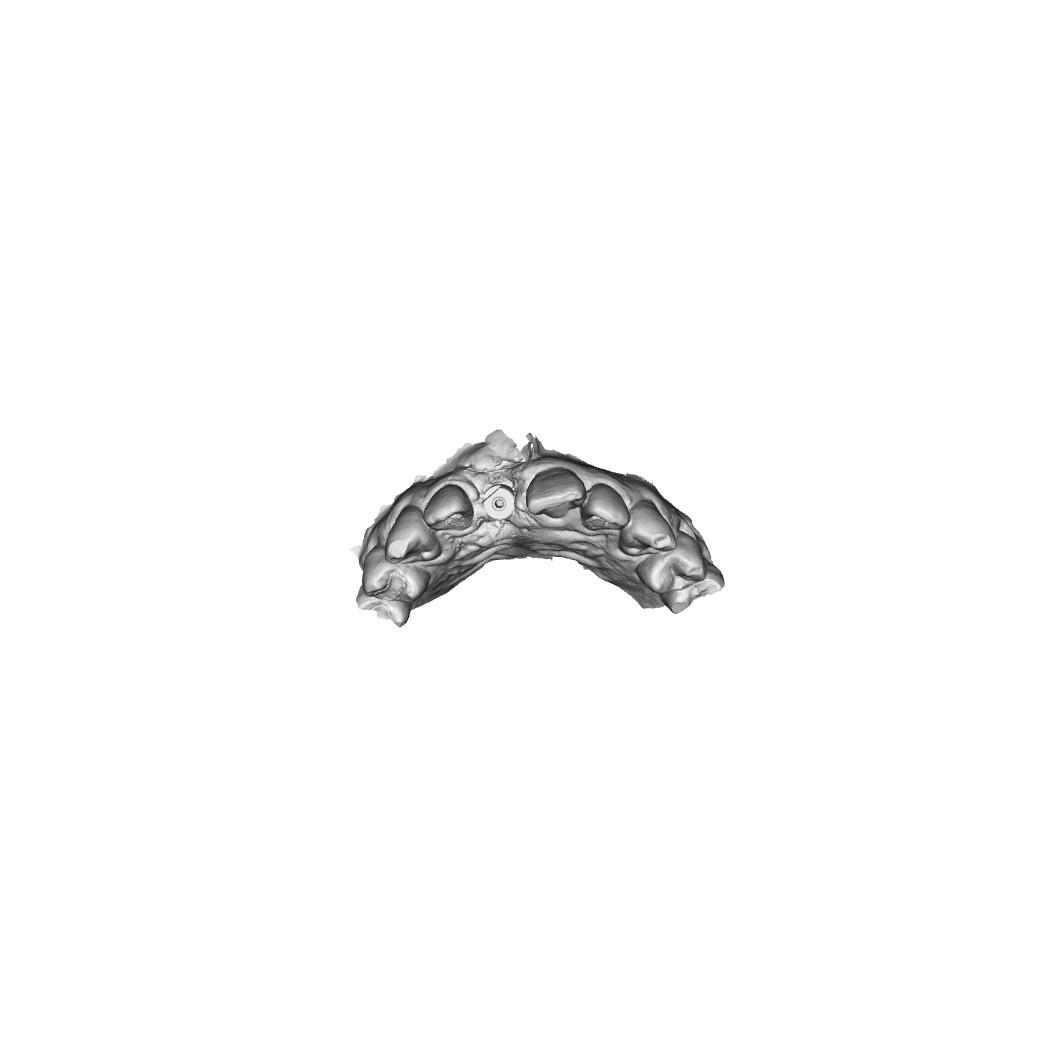canine: (619, 497, 676, 561), (385, 504, 442, 564)
implant: (484, 484, 518, 522)
incisor: (523, 467, 586, 525), (579, 481, 633, 536), (424, 485, 476, 536)
premolar: (637, 533, 707, 597), (360, 545, 428, 604)
